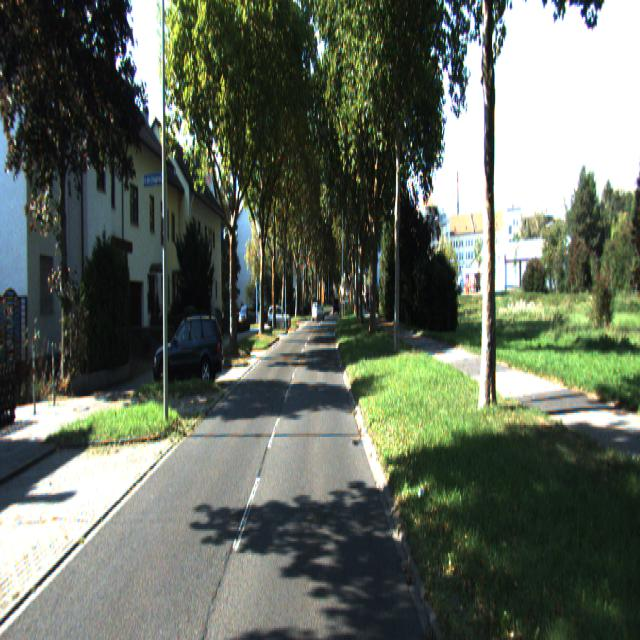Car: (152, 314, 225, 394), (266, 307, 292, 333)
